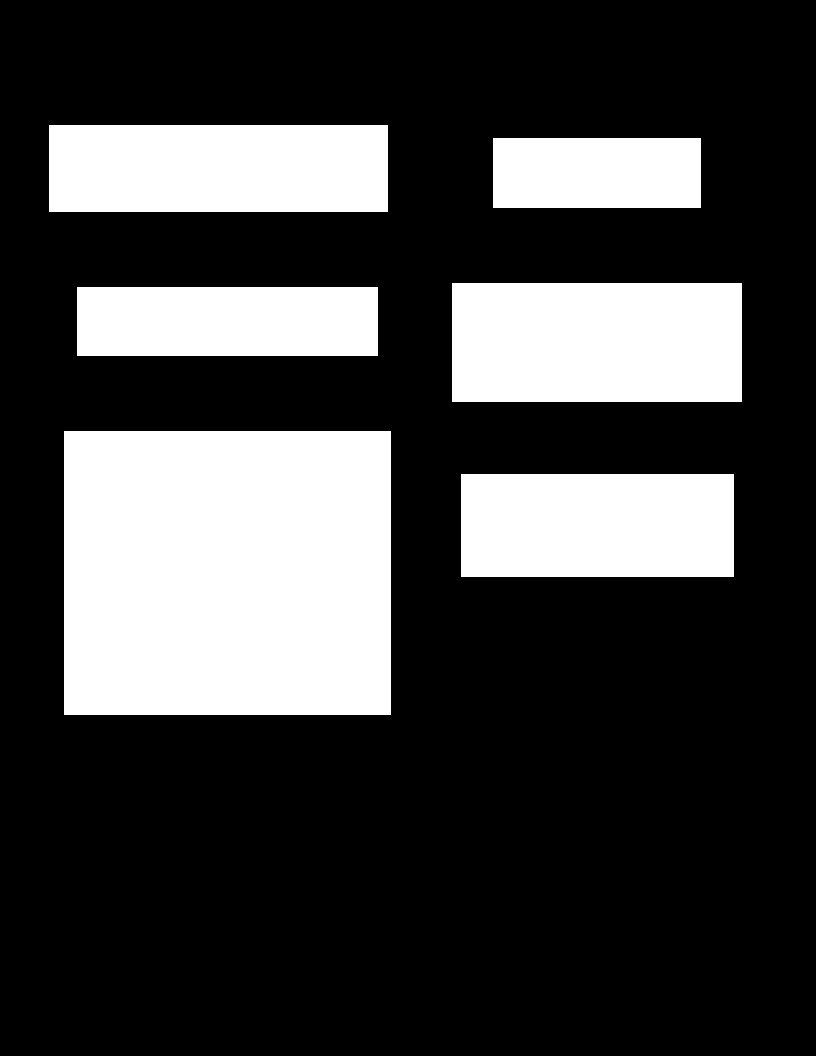table: (64, 431, 390, 714), (452, 283, 741, 401), (49, 125, 387, 211), (461, 474, 733, 576), (77, 287, 377, 355), (493, 138, 700, 207)
